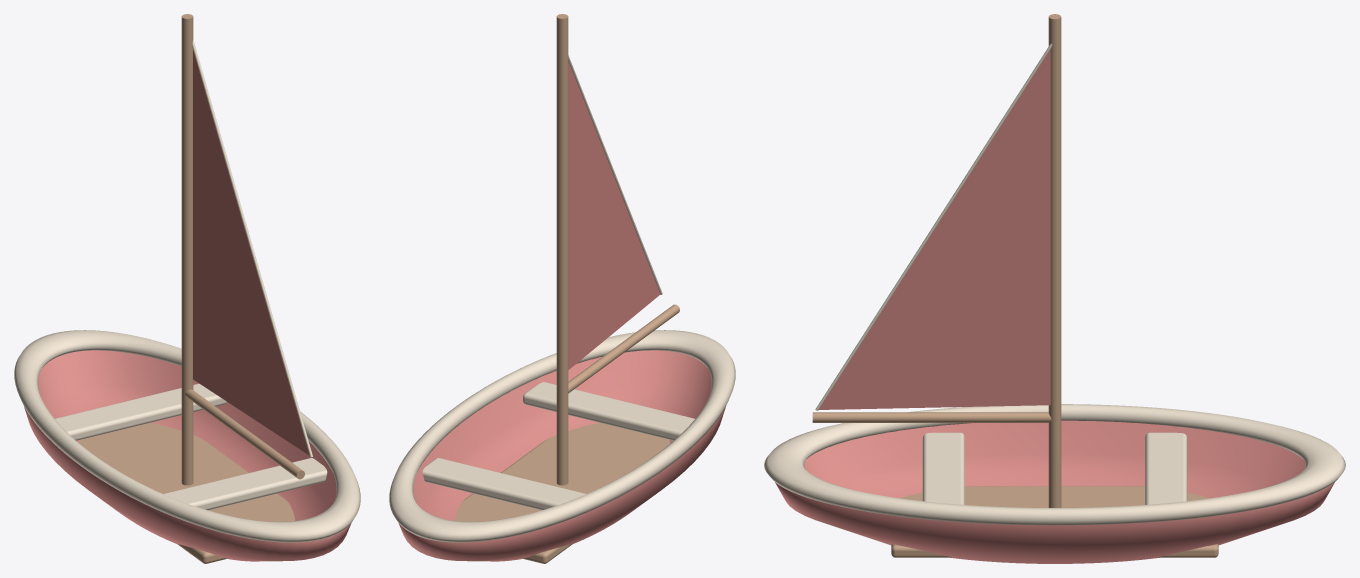
Rendered from sailRose.glb.
The picture shows the model from 3 angles, left to right: view 1: azimuth 30°, elevation 25°; view 2: azimuth 150°, elevation 25°; view 3: azimuth 270°, elevation 25°; orthographic projection. The views are drawn at different scales.
Visible parts, largest first — view 1: triangular sail, hollow hull, rounded rim, recessed cockpit floor, seat bench (×2), mast, sail seam, boom; view 2: hollow hull, rounded rim, triangular sail, recessed cockpit floor, seat bench (×2), mast, boom, sail seam; view 3: triangular sail, hollow hull, rounded rim, mast, seat bench (×2), recessed cockpit floor, boom, sail seam.
Part boxes in pixels (x1,y1,x2,y2): triangular sail: [193, 50, 309, 455]; hollow hull: [24, 350, 351, 561]; rounded rim: [14, 330, 360, 542]; recessed cockpit floor: [80, 423, 294, 563]; seat bench (×2): [55, 383, 327, 510]; mast: [181, 14, 193, 485]; sail seam: [192, 40, 312, 457]; boom: [185, 389, 304, 479]; hollow hull: [398, 350, 725, 561]; rounded rim: [389, 330, 735, 542]; triangular sail: [568, 62, 660, 369]; recessed cockpit floor: [455, 423, 669, 563]; seat bench (×2): [422, 382, 694, 510]; mast: [556, 14, 568, 485]; boom: [568, 304, 679, 393]; sail seam: [568, 55, 662, 294]; triangular sail: [819, 50, 1050, 409]; hollow hull: [775, 420, 1334, 563]; rounded rim: [764, 404, 1345, 525]; mast: [1048, 14, 1061, 507]; seat bench (×2): [922, 432, 1187, 504]; recessed cockpit floor: [891, 486, 1218, 557]; boom: [812, 412, 1051, 422]; sail seam: [815, 43, 1052, 410].
Size of the model in its own units: 2.02 by 4.46 by 4.44.
